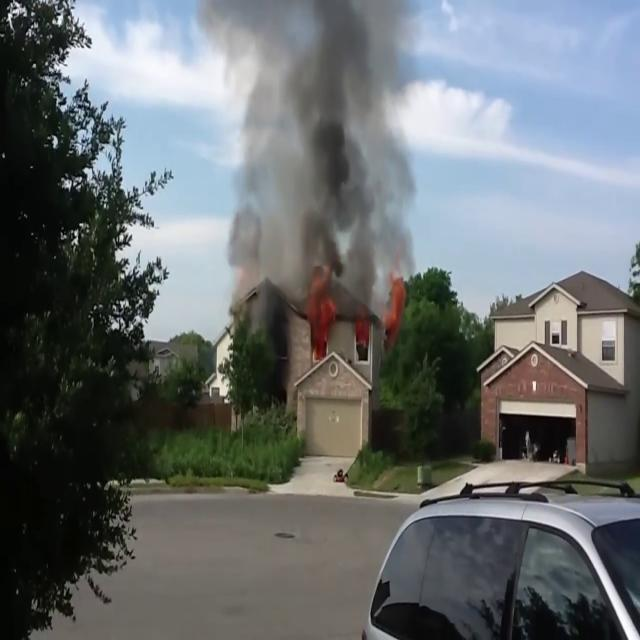Fire: (306, 271, 338, 361)
Smoke: (220, 1, 410, 332)
